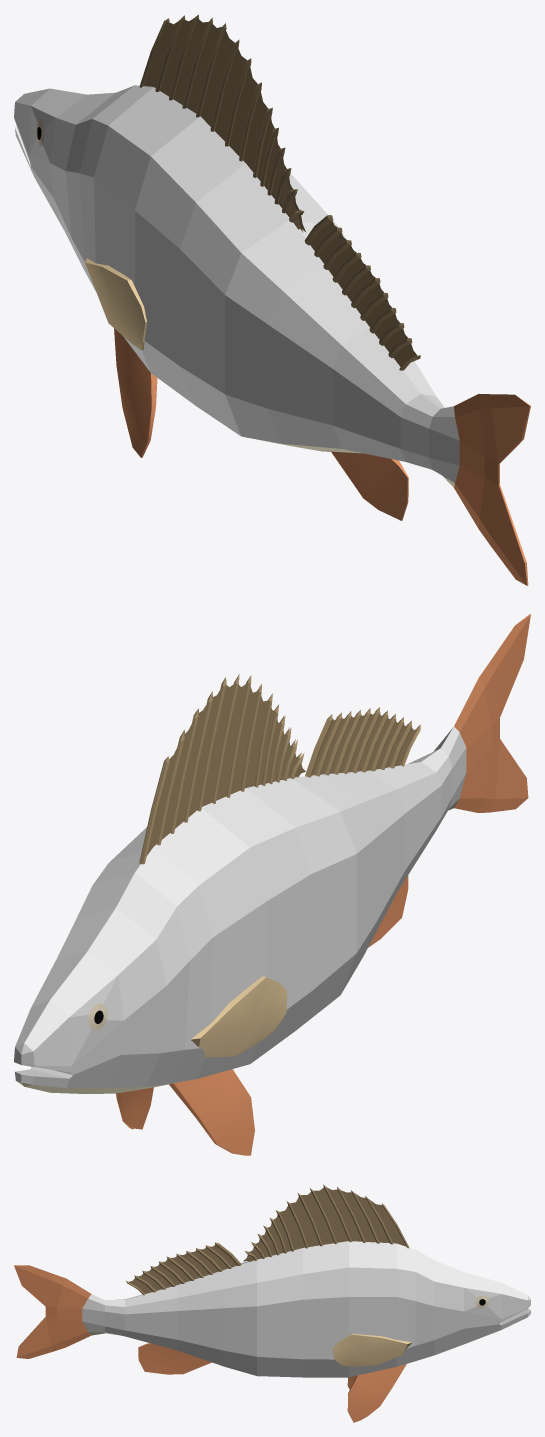
Rendered from okon1.fbx.
The picture shows the model from 3 angles, top to bottom: view 1: azimuth 30°, elevation 25°; view 2: azimuth 150°, elevation 25°; view 3: azimuth 270°, elevation 25°; orthographic projection. The views are drawn at different scales.
Visible parts, largest first — view 1: Cube, Plane.002; view 2: Cube, Plane.002; view 3: Cube, Plane.002.
Boxes of the visible parts, bbox=[...] form: Cube: bbox=[14, 85, 530, 585]; Plane.002: bbox=[85, 14, 420, 520]; Cube: bbox=[14, 614, 530, 1093]; Plane.002: bbox=[116, 674, 420, 1155]; Cube: bbox=[14, 1241, 530, 1377]; Plane.002: bbox=[126, 1184, 411, 1422].
Size of the model in its own units: 145 by 425 by 882.
